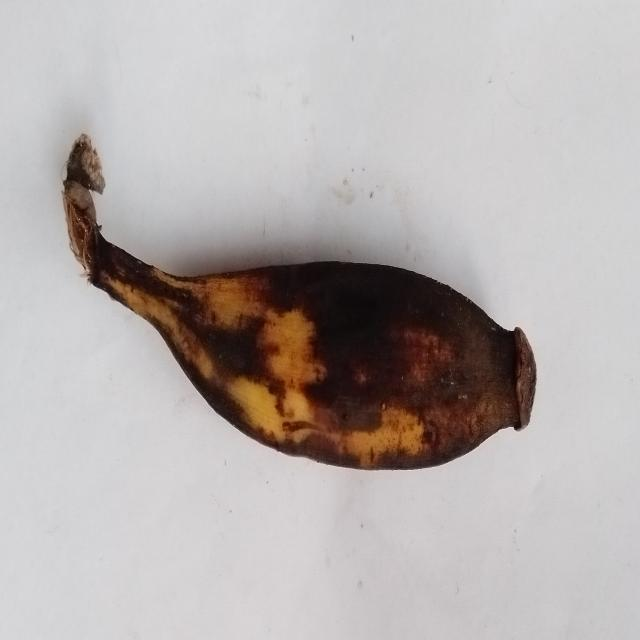banana: (64, 136, 535, 468)
